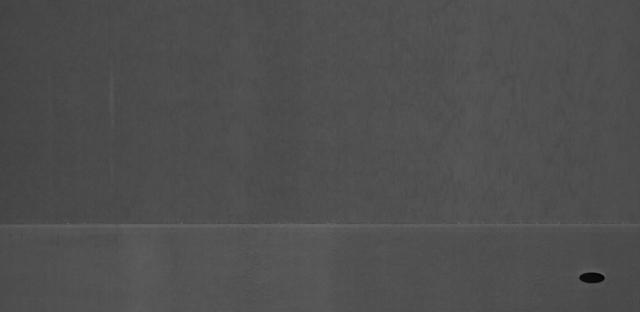punching_hole: (576, 264, 610, 286)
welding_line: (1, 217, 636, 234)
